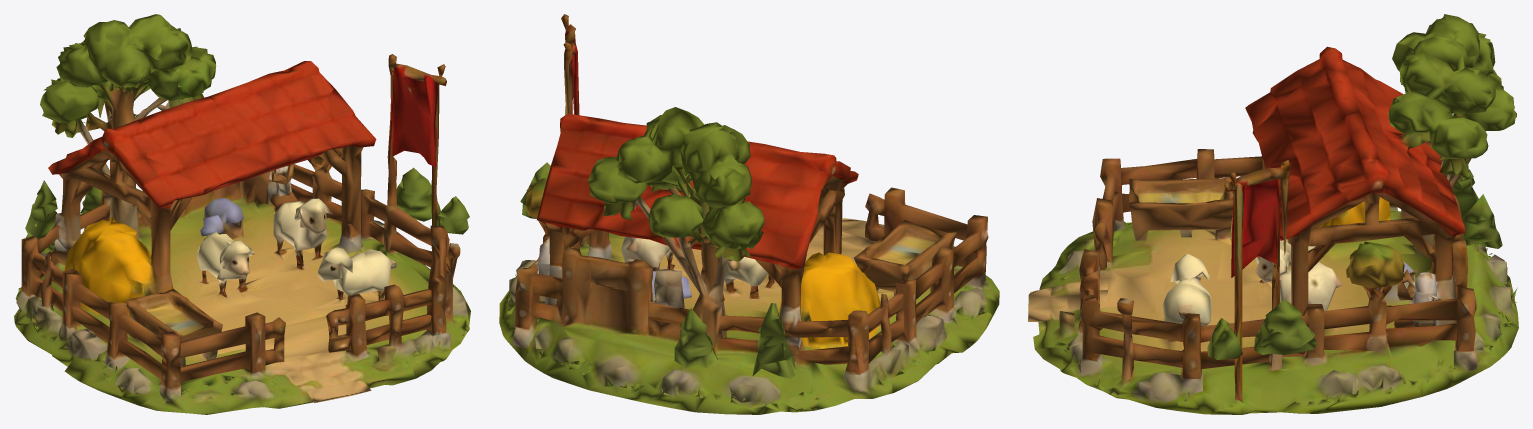
File: agil.glb
3 renders of one model, left to right at view 1: azimuth 30°, elevation 25°; view 2: azimuth 150°, elevation 25°; view 3: azimuth 270°, elevation 25°, orthographic. The views are drawn at different scales.
Visible parts, largest first — view 1: tripo_node_12154dc0-0cf1-493a-a89a-4d437b9121a8; view 2: tripo_node_12154dc0-0cf1-493a-a89a-4d437b9121a8; view 3: tripo_node_12154dc0-0cf1-493a-a89a-4d437b9121a8.
Part boxes in pixels (x1,y1,x2,y2): tripo_node_12154dc0-0cf1-493a-a89a-4d437b9121a8: (14,14,470,414); tripo_node_12154dc0-0cf1-493a-a89a-4d437b9121a8: (499,14,999,414); tripo_node_12154dc0-0cf1-493a-a89a-4d437b9121a8: (1028,14,1518,414).
Bounding box in the file's own units: 0.9773 × 0.5872 × 0.9617.
1 material, 1 textured.
